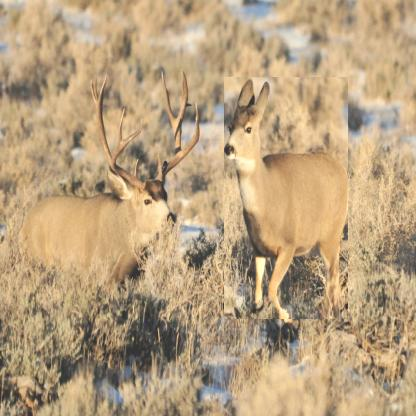Deer: (16, 66, 200, 291), (224, 77, 348, 319)
